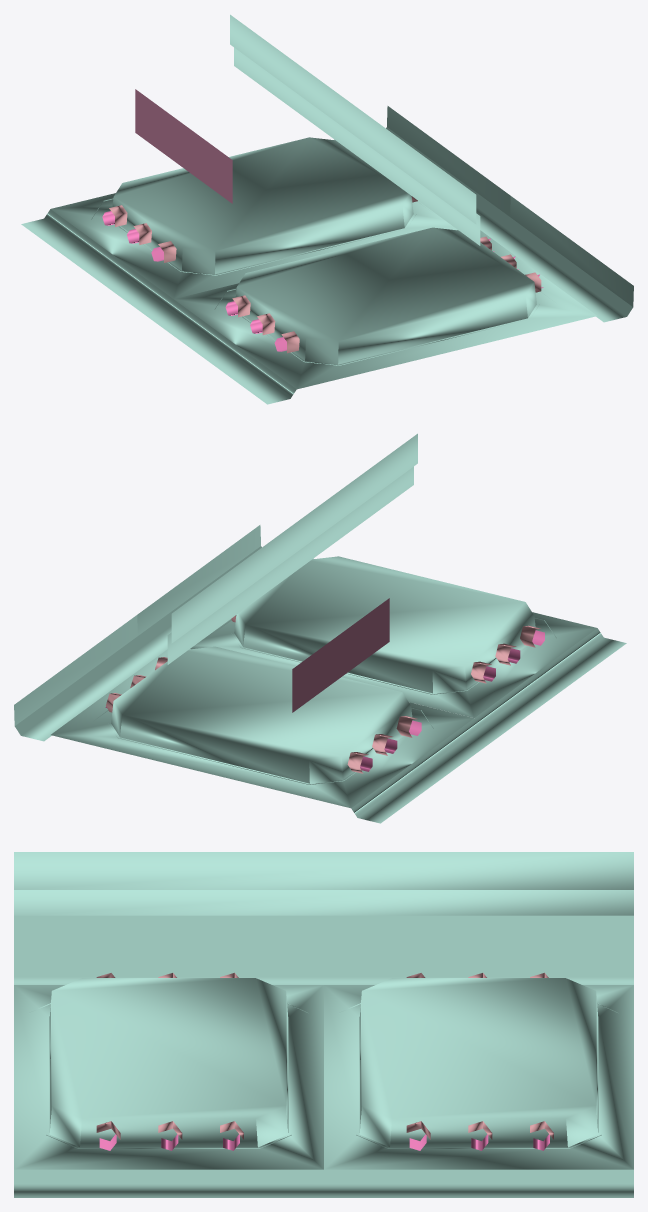
File: roomlg_b_addon_ceiling_light_straight_02x02x01_lod1.glb
The picture shows the model from 3 angles, top to bottom: view 1: azimuth 30°, elevation 25°; view 2: azimuth 150°, elevation 25°; view 3: azimuth 270°, elevation 25°; orthographic projection. The views are drawn at different scales.
Bounding box in the file's own units: 1.75 × 0.7112 × 2.
